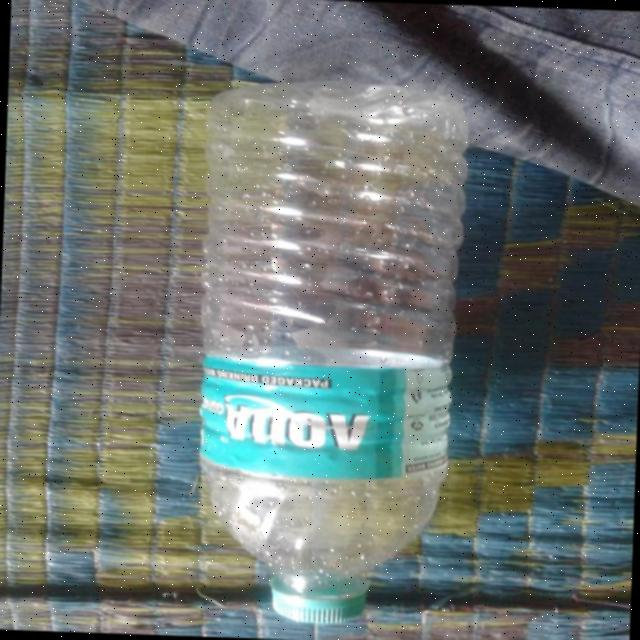bottle: (180, 82, 468, 632)
cap: (269, 597, 368, 627)
label: (154, 354, 456, 463)
